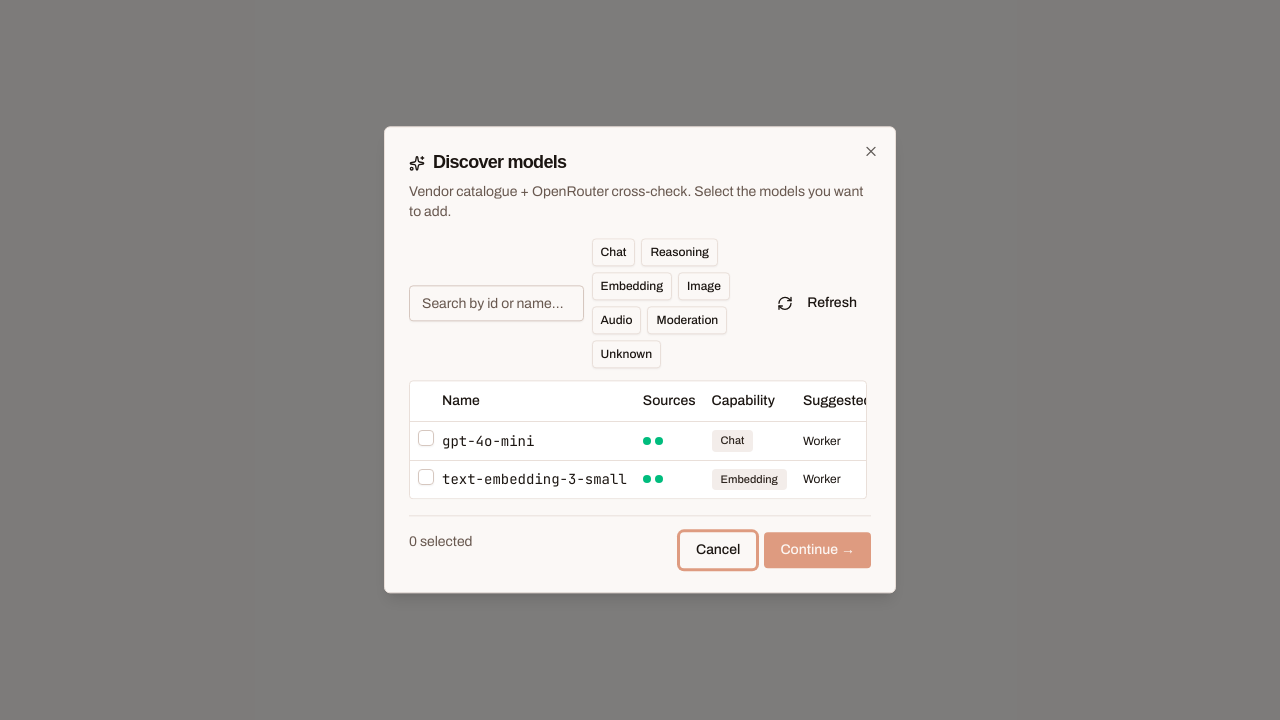
DiscoverModelsDialog › Step 2 — capability filter chips › clicking a capability chip narrows candidates by inferredCapability
Expected: the text "gpt-4o-mini" is shown, top-left (442, 432), bottom-right (534, 450)
Expected: the text "text-embedding-3-small" is shown, top-left (442, 470), bottom-right (627, 490)
# Toggle Embedding chip — chat row hidden, embedding row remains.
Click the button "Embedding" at (632, 287), box top-left (592, 273), bottom-right (672, 301)
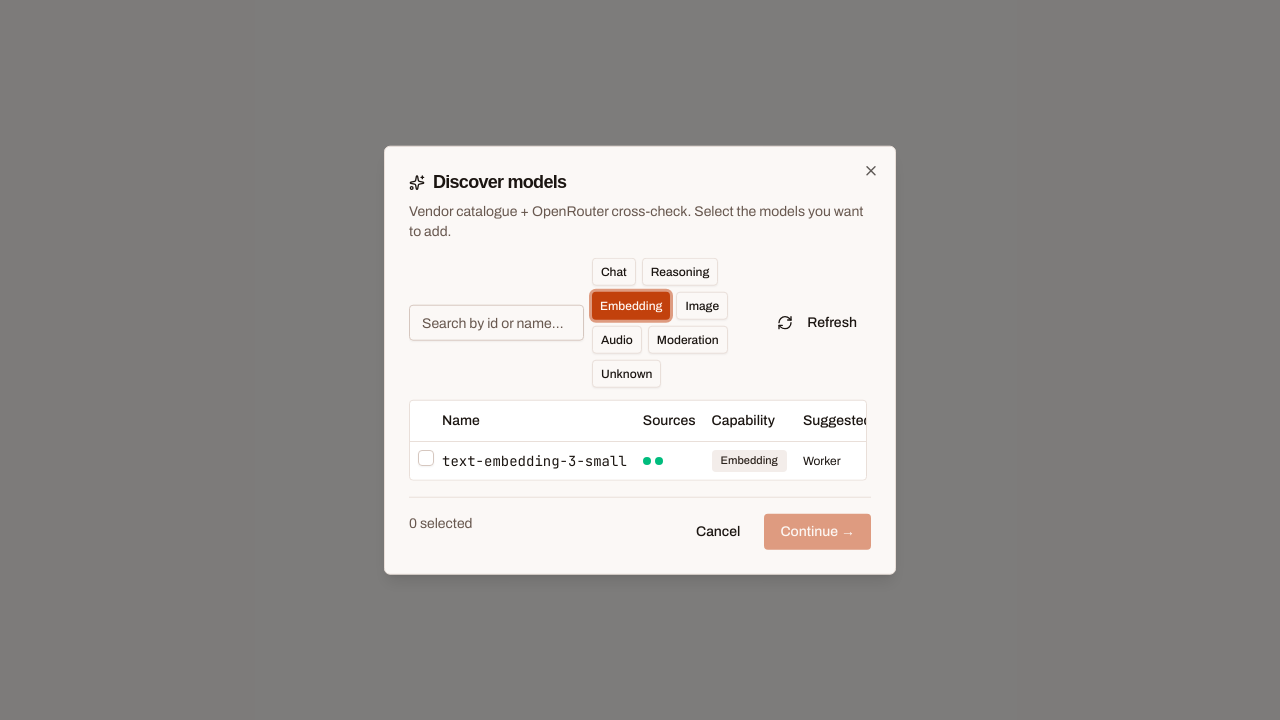
Expected: the text "text-embedding-3-small" is shown, top-left (442, 450), bottom-right (627, 470)
Expected: the text "gpt-4o-mini" is gone
# Click again to deactivate — chat row returns.
Click the button "Embedding" at (631, 306), box top-left (592, 292), bottom-right (670, 320)
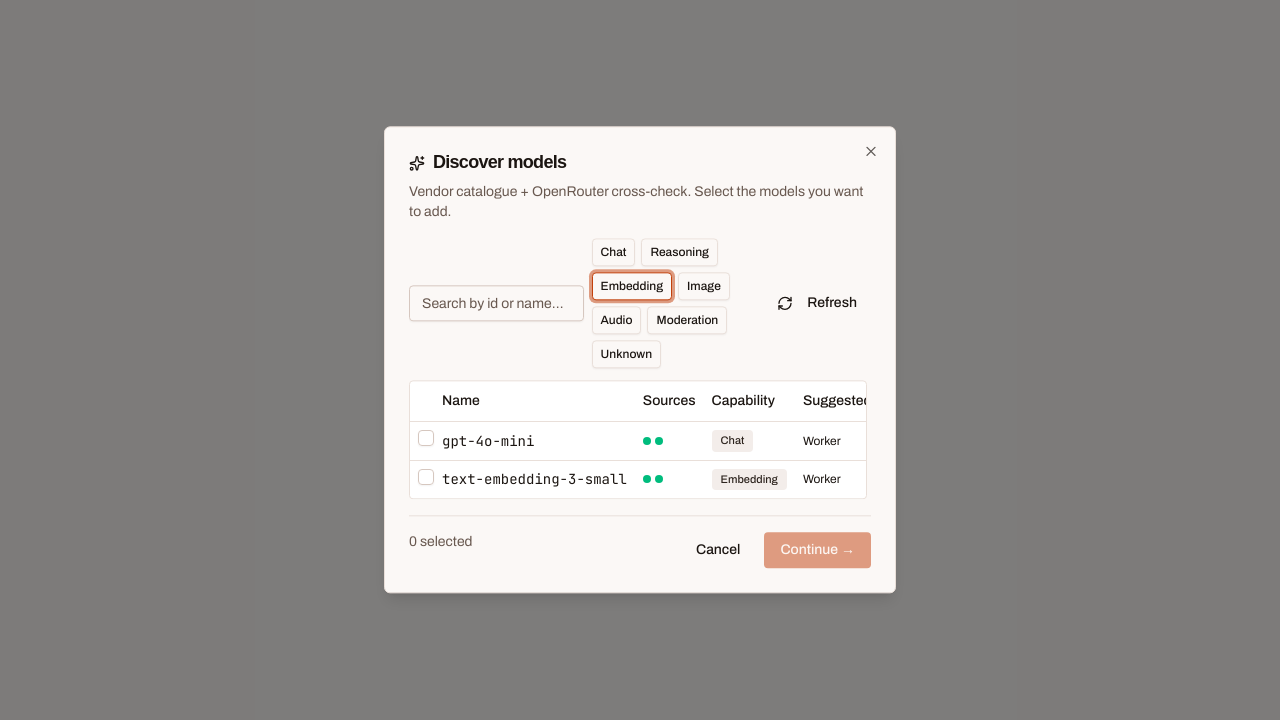
Expected: the text "gpt-4o-mini" is shown, top-left (442, 432), bottom-right (534, 450)
